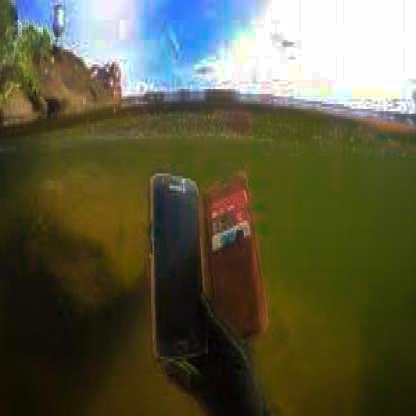cellphone: (151, 168, 204, 364)
